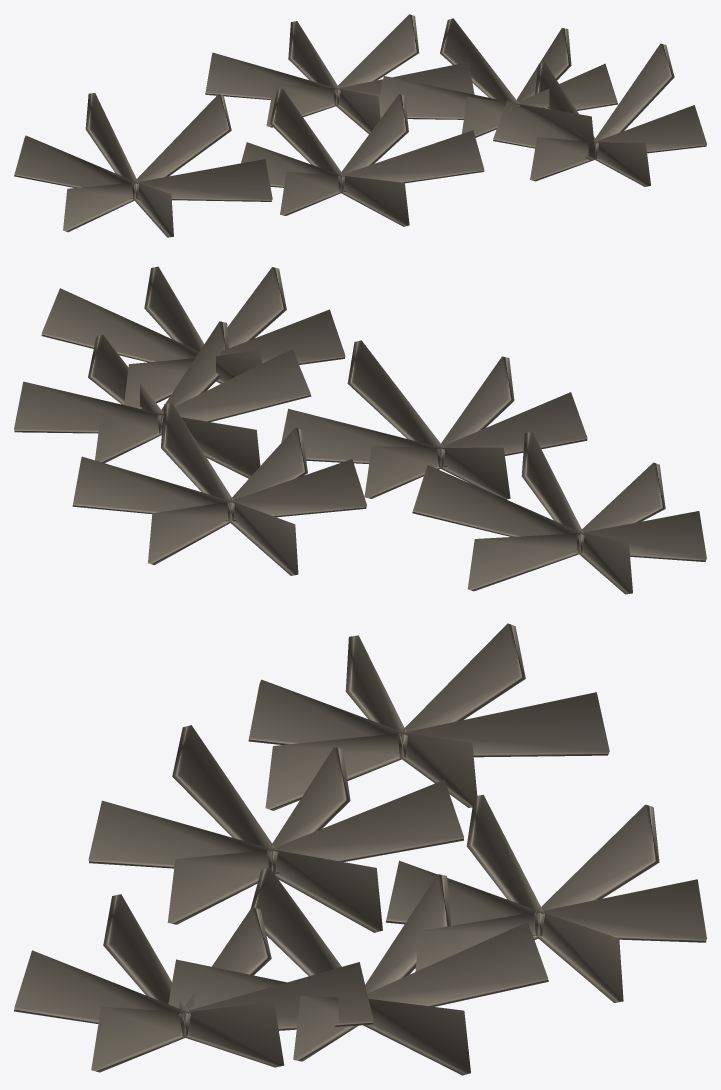
Rendered from farm_rootleaf_withered.glb.
3 renders of one model, top to bottom at view 1: azimuth 30°, elevation 25°; view 2: azimuth 150°, elevation 25°; view 3: azimuth 270°, elevation 25°, orthographic. The views are drawn at different scales.
Parts seen in each view (by area): view 1: FarmBody; view 2: FarmBody; view 3: FarmBody.
Part boxes in pixels (x1=…): FarmBody: x1=14, y1=14, x2=706, y2=237; FarmBody: x1=14, y1=266, x2=706, y2=594; FarmBody: x1=14, y1=623, x2=706, y2=1075.
Bounding box in the file's own units: 2.12 × 0.2399 × 1.47.
